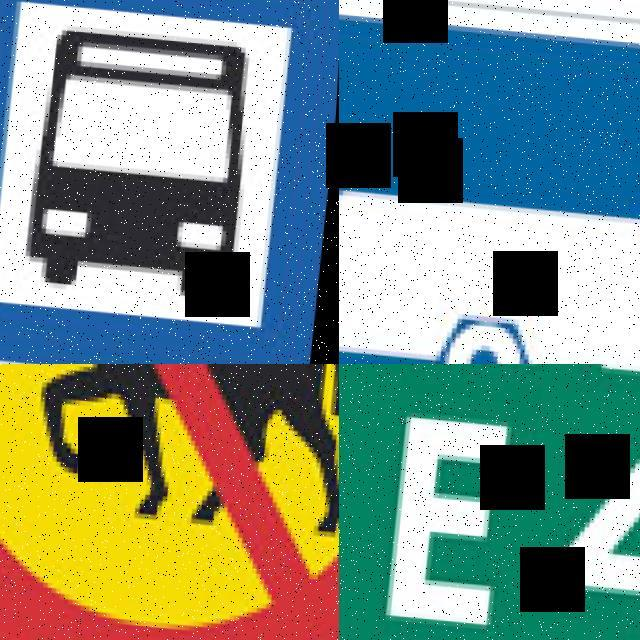35: (0, 364, 339, 640)
60: (0, 0, 339, 364)
69: (339, 0, 640, 364)
Road number sign: (339, 364, 640, 640)
